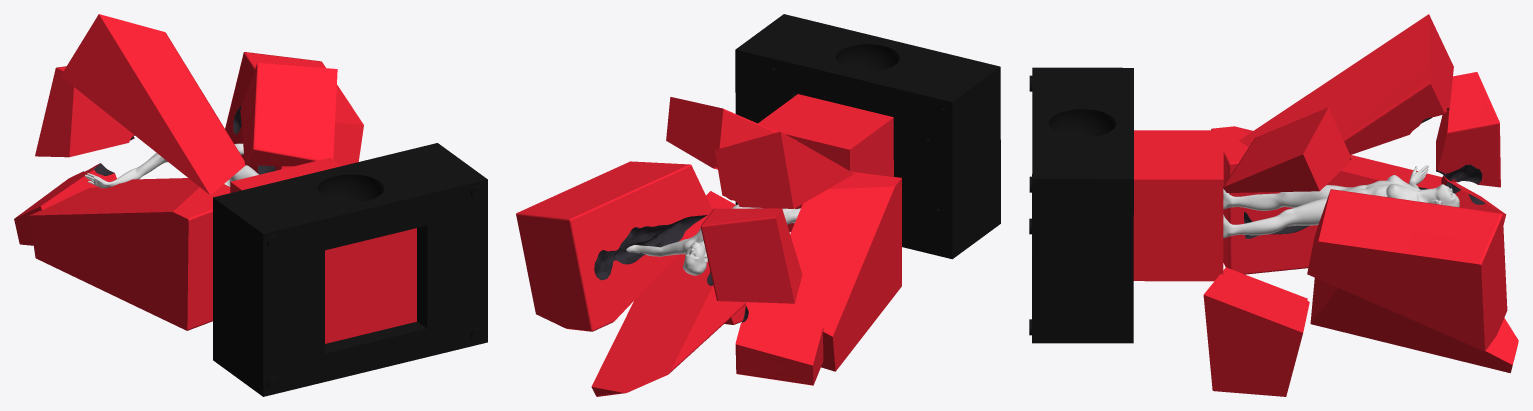
Rendered from asset.glb.
The picture shows the model from 3 angles, left to right: view 1: azimuth 30°, elevation 25°; view 2: azimuth 150°, elevation 25°; view 3: azimuth 270°, elevation 25°; orthographic projection. The views are drawn at different scales.
Parts seen in each view (by area): view 1: mesh, BLOQUES.002, BLOQUES.001, BASE MUJER, BLOQUES.000, BLOQUES.003, BLOQUES.005, Group16064.006, Group42257; view 2: mesh, BLOQUES.005, BLOQUES.002, BLOQUES.004, BLOQUES.003, BLOQUES.001, BASE MUJER, Group16064.006, BLOQUES.000, Group42257, BLOQUES; view 3: mesh, BLOQUES.005, BASE MUJER, BLOQUES.001, BLOQUES, BLOQUES.002, BLOQUES.000, BLOQUES.004, BLOQUES.003, Group42257, Group16064.006.
Part boxes in pixels (x1,y1,x2,y2): mesh: (213, 143, 487, 396); BLOQUES.002: (29, 178, 230, 330); BLOQUES.001: (61, 14, 245, 195); BASE MUJER: (230, 157, 416, 343); BLOQUES.000: (240, 63, 337, 166); BLOQUES.003: (35, 66, 134, 157); BLOQUES.005: (225, 52, 363, 174); Group16064.006: (14, 163, 116, 245); Group42257: (84, 143, 258, 188); mesh: (735, 14, 1000, 259); BLOQUES.005: (516, 161, 712, 331); BLOQUES.002: (782, 171, 901, 371); BLOQUES.004: (591, 254, 746, 396); BLOQUES.003: (700, 208, 802, 303); BLOQUES.001: (715, 131, 854, 208); BASE MUJER: (758, 94, 893, 232); Group16064.006: (735, 302, 823, 385); BLOQUES.000: (666, 97, 796, 169); Group42257: (626, 204, 800, 275); BLOQUES: (680, 191, 745, 324); mesh: (1029, 67, 1133, 343); BLOQUES.005: (1307, 189, 1507, 351); BASE MUJER: (1133, 130, 1223, 281); BLOQUES.001: (1239, 14, 1453, 154); BLOQUES: (1203, 267, 1309, 396); BLOQUES.002: (1211, 126, 1441, 274); BLOQUES.000: (1223, 107, 1351, 192); BLOQUES.004: (1310, 278, 1518, 372); BLOQUES.003: (1436, 72, 1500, 187); Group42257: (1223, 165, 1459, 238); Group16064.006: (1441, 175, 1506, 225).
Size of the model in its own units: 20.9 by 18.77 by 28.26.
